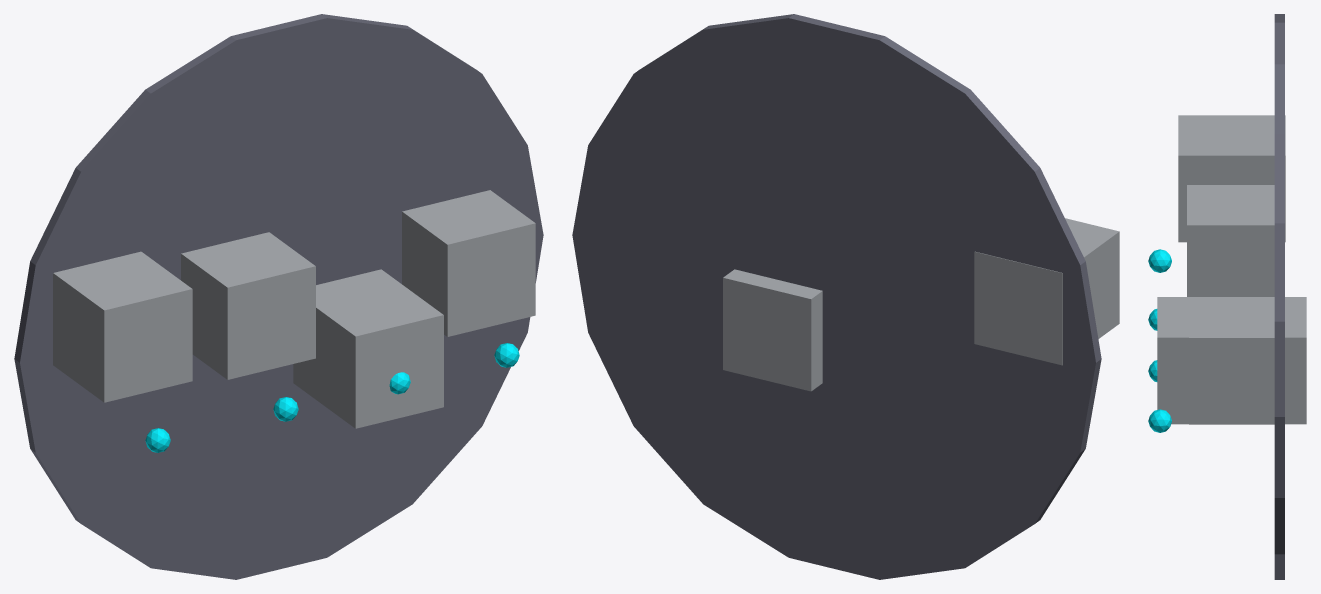
The model's file is 02_local_prop_cluster.glb.
3 views of the same model, side by side, from view 1: azimuth 30°, elevation 25°; view 2: azimuth 150°, elevation 25°; view 3: azimuth 270°, elevation 25° (orthographic). The views are drawn at different scales.
Visible parts, largest first — view 1: scatter_base, tech_crate_0, tech_crate_2, tech_crate_1, tech_crate_3; view 2: scatter_base, tech_crate_0, tech_crate_2; view 3: tech_crate_3, tech_crate_1, tech_crate_0, tech_crate_2, scatter_base, status_light_0, status_light_3.
Part boxes in pixels (bbox=[...]): scatter_base: bbox=[14, 14, 543, 579]; tech_crate_0: bbox=[53, 251, 192, 402]; tech_crate_2: bbox=[293, 269, 443, 428]; tech_crate_1: bbox=[181, 232, 315, 379]; tech_crate_3: bbox=[402, 190, 535, 336]; scatter_base: bbox=[572, 14, 1101, 579]; tech_crate_0: bbox=[974, 218, 1119, 365]; tech_crate_2: bbox=[723, 269, 822, 391]; tech_crate_3: bbox=[1189, 297, 1274, 424]; tech_crate_1: bbox=[1187, 185, 1274, 296]; tech_crate_0: bbox=[1178, 115, 1285, 242]; tech_crate_2: bbox=[1157, 297, 1306, 424]; scatter_base: bbox=[1274, 14, 1284, 579]; status_light_0: bbox=[1148, 249, 1171, 272]; status_light_3: bbox=[1148, 409, 1171, 432].
Size of the model in its own units: 1.9 by 1.87 by 0.5301.
